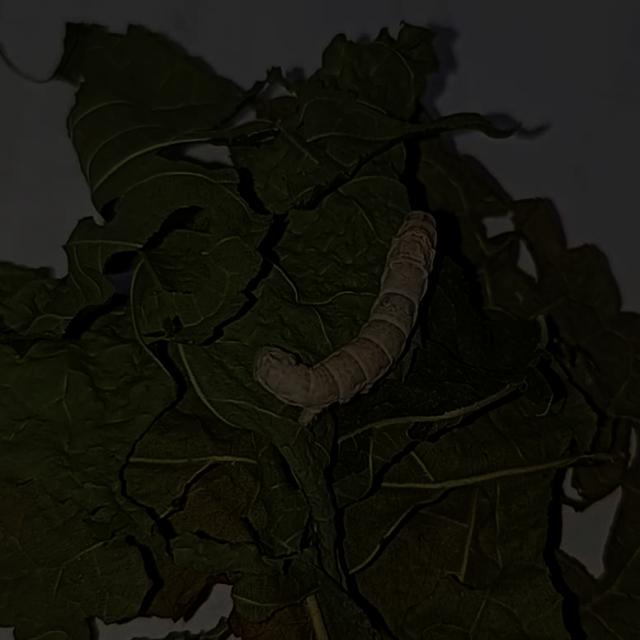Healthy: (236, 194, 482, 444)
